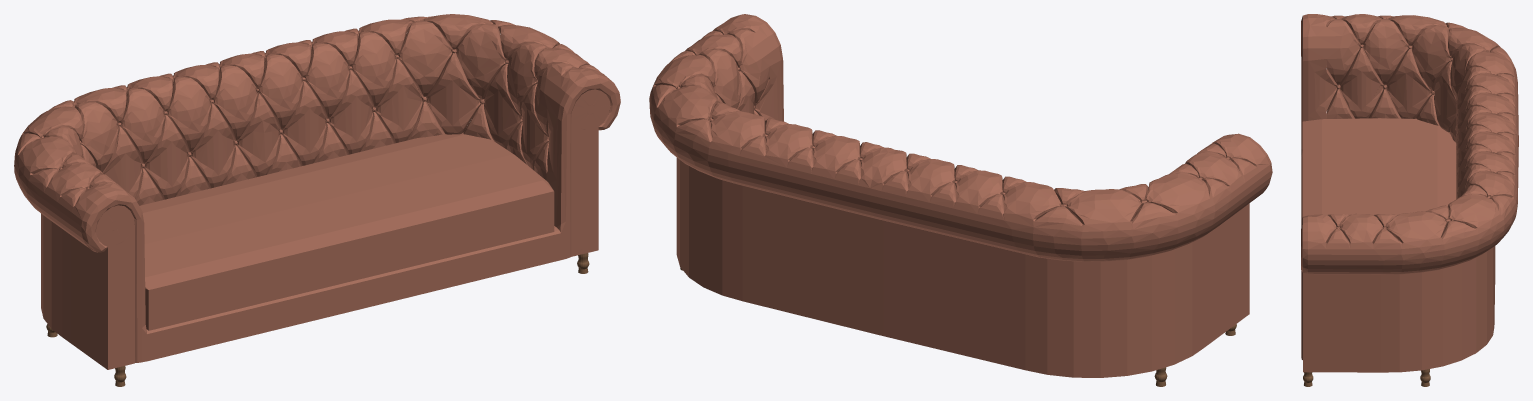
Rendered from b0-winchestersofa.glb.
3 renders of one model, left to right at view 1: azimuth 30°, elevation 25°; view 2: azimuth 150°, elevation 25°; view 3: azimuth 270°, elevation 25°, orthographic. The views are drawn at different scales.
Parts seen in each view (by area): view 1: Circle, Cube_Cube.001, Circle.002_Circle.003; view 2: Circle.002_Circle.003, Circle; view 3: Circle, Circle.002_Circle.003, Cube_Cube.001.
Part boxes in pixels (x1,y1,x2,y2): Circle: (14,14,620,362); Cube_Cube.001: (139,132,554,330); Circle.002_Circle.003: (41,89,610,369); Circle.002_Circle.003: (676,157,1249,377); Circle: (649,14,1272,261); Circle: (1301,14,1518,359); Circle.002_Circle.003: (1303,246,1495,372); Cube_Cube.001: (1302,118,1456,243).
Bounding box in the file's own units: 2.32 × 0.8041 × 0.9379.
